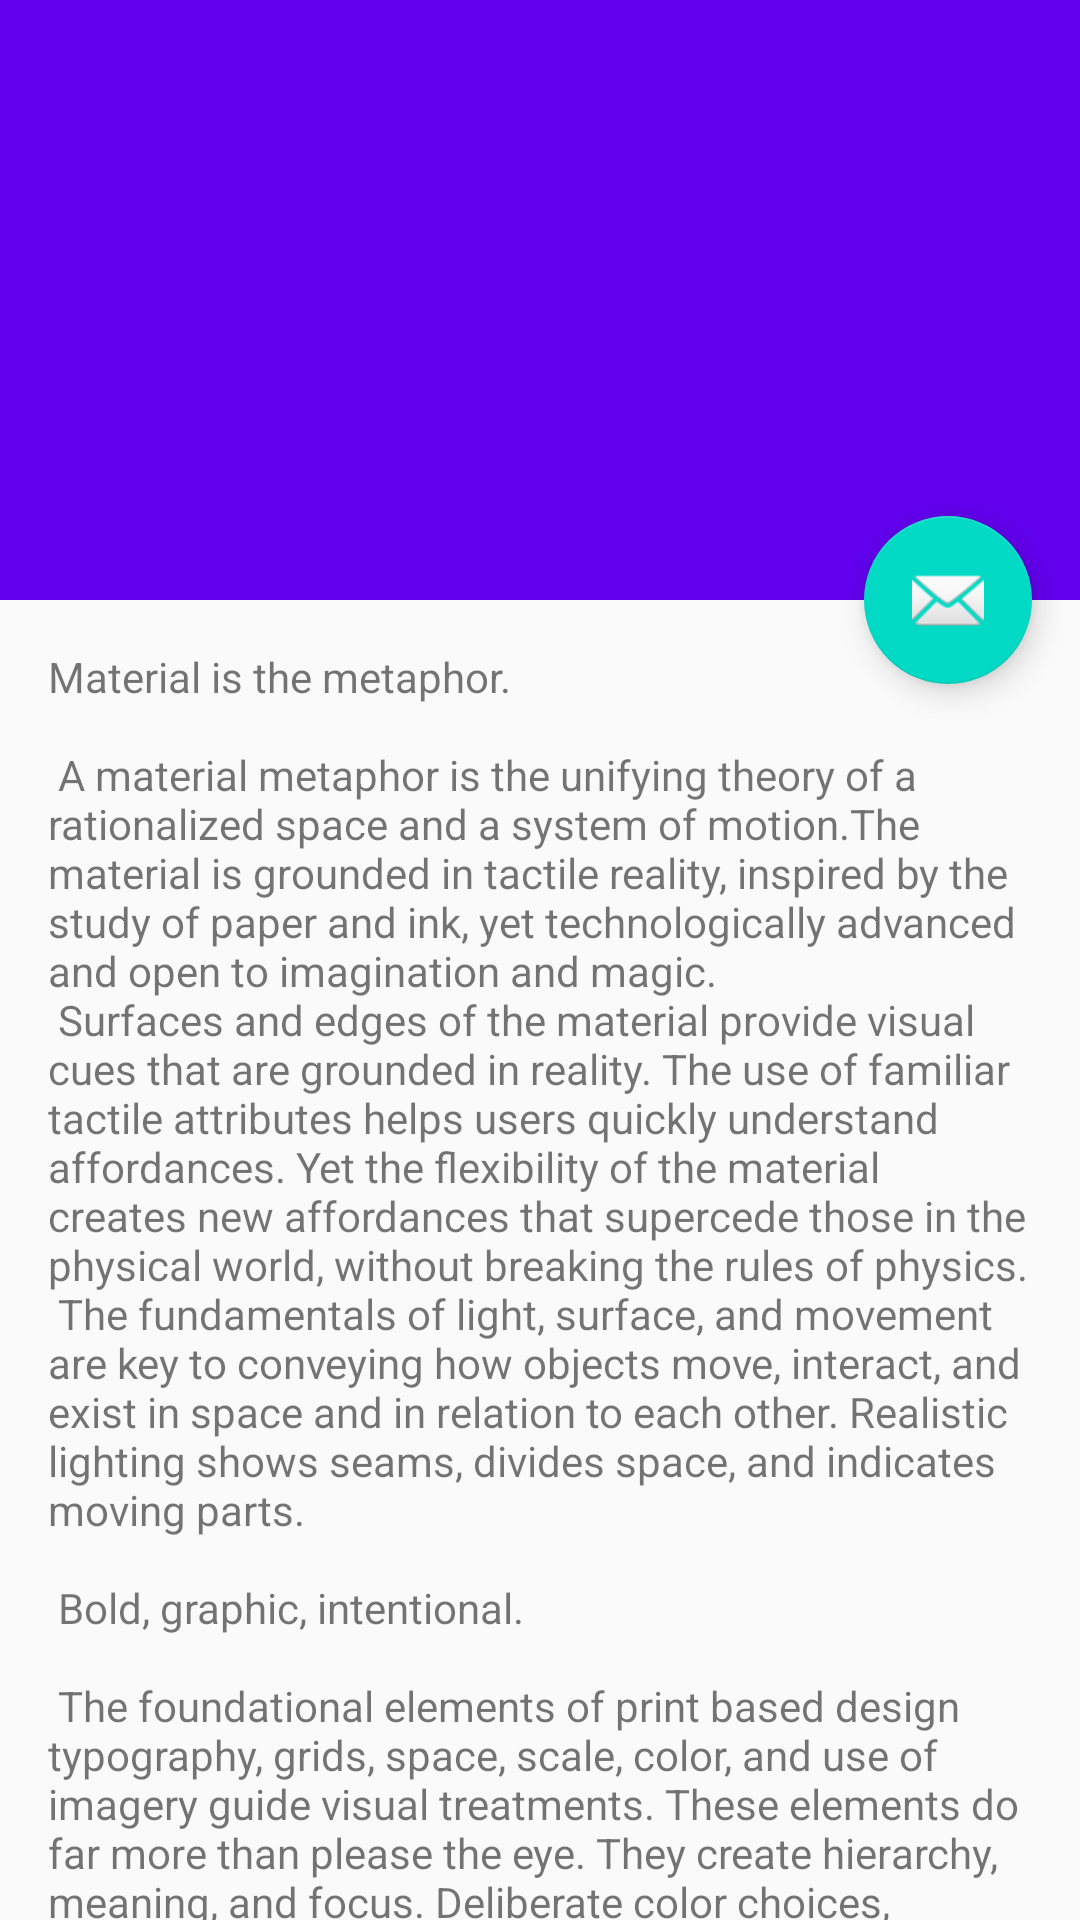

Icon click points for this 1080×1920 phone screenshot, format (x=x, y=y):
email: (x=948, y=600)
